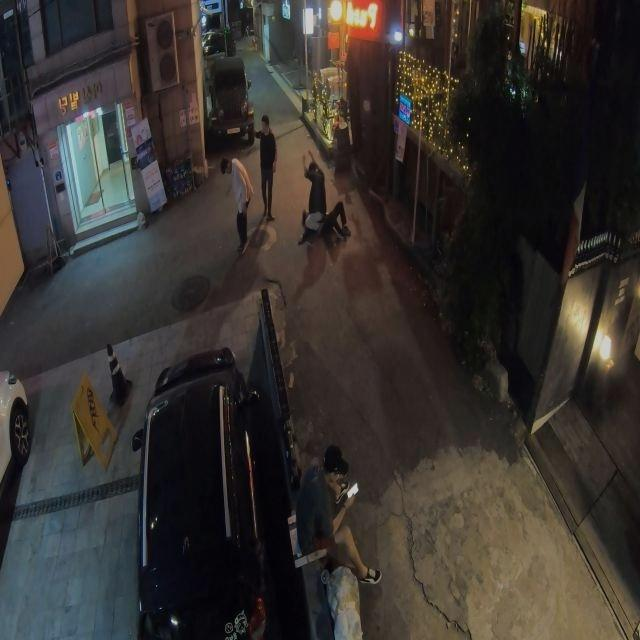fight: (298, 152, 348, 246)
non-fight: (295, 448, 380, 589), (221, 157, 254, 254), (254, 117, 277, 216)
